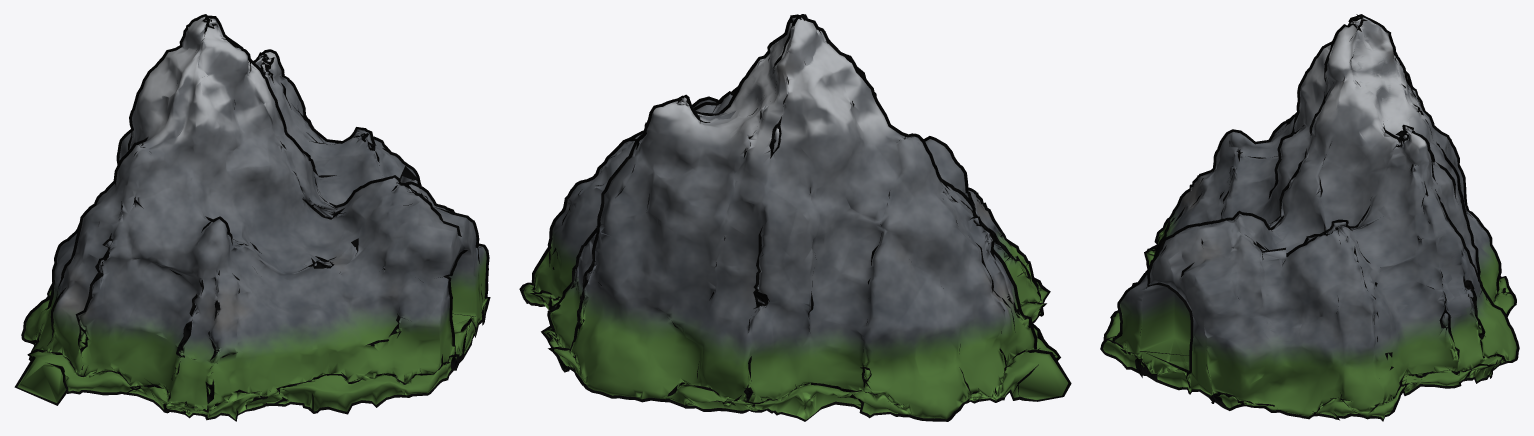
File: Landing_Mountain.glb
3 views of the same model, side by side, from view 1: azimuth 30°, elevation 25°; view 2: azimuth 150°, elevation 25°; view 3: azimuth 270°, elevation 25° (orthographic). The views are drawn at different scales.
Parts seen in each view (by area): view 1: Mountain_Rock, Mountain_OutlineHull; view 2: Mountain_Rock, Mountain_OutlineHull; view 3: Mountain_Rock, Mountain_OutlineHull.
Part boxes in pixels (x1=…): Mountain_Rock: x1=17, y1=17, x2=487, y2=419; Mountain_OutlineHull: x1=14, y1=14, x2=490, y2=421; Mountain_Rock: x1=522, y1=17, x2=1068, y2=419; Mountain_OutlineHull: x1=519, y1=14, x2=1071, y2=421; Mountain_Rock: x1=1103, y1=17, x2=1516, y2=418; Mountain_OutlineHull: x1=1100, y1=14, x2=1519, y2=421.
Size of the model in its own units: 23.67 by 16.17 by 19.52.
Materials: 2 (1 with a texture image).
